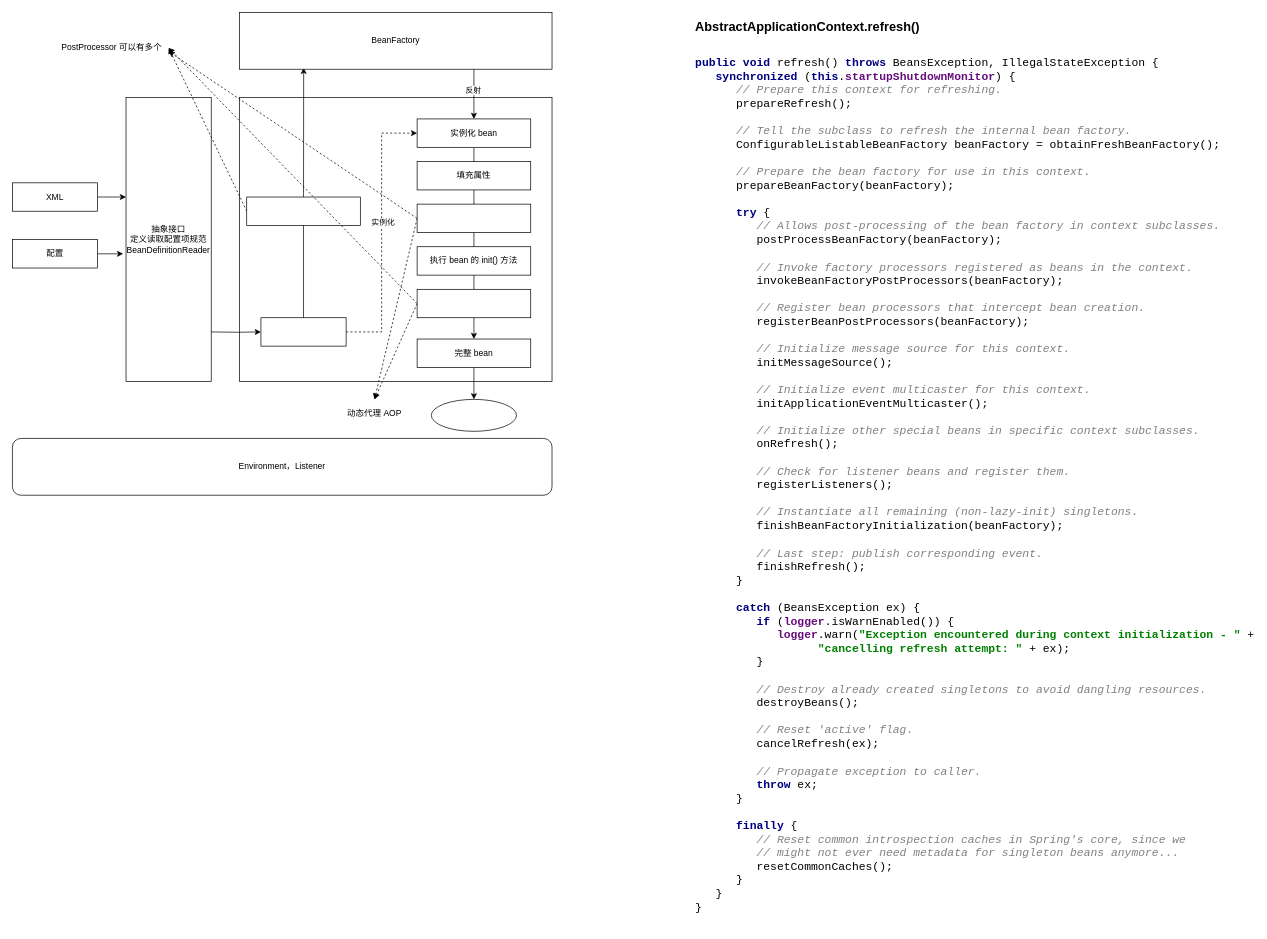
Some shapes in this 1267 by 939 pixel diagram are drawn without their labels. The centre of each missing label's shape, as x and y in pixels:
bean 元数据信息 BeanDefinition: point (303, 331)
BeanFactroyPostProcessor: point (303, 210)
BeanPostProcessor:after(): point (473, 303)
BeanPostProcessor:before(): point (473, 218)
getBean(): point (474, 415)
